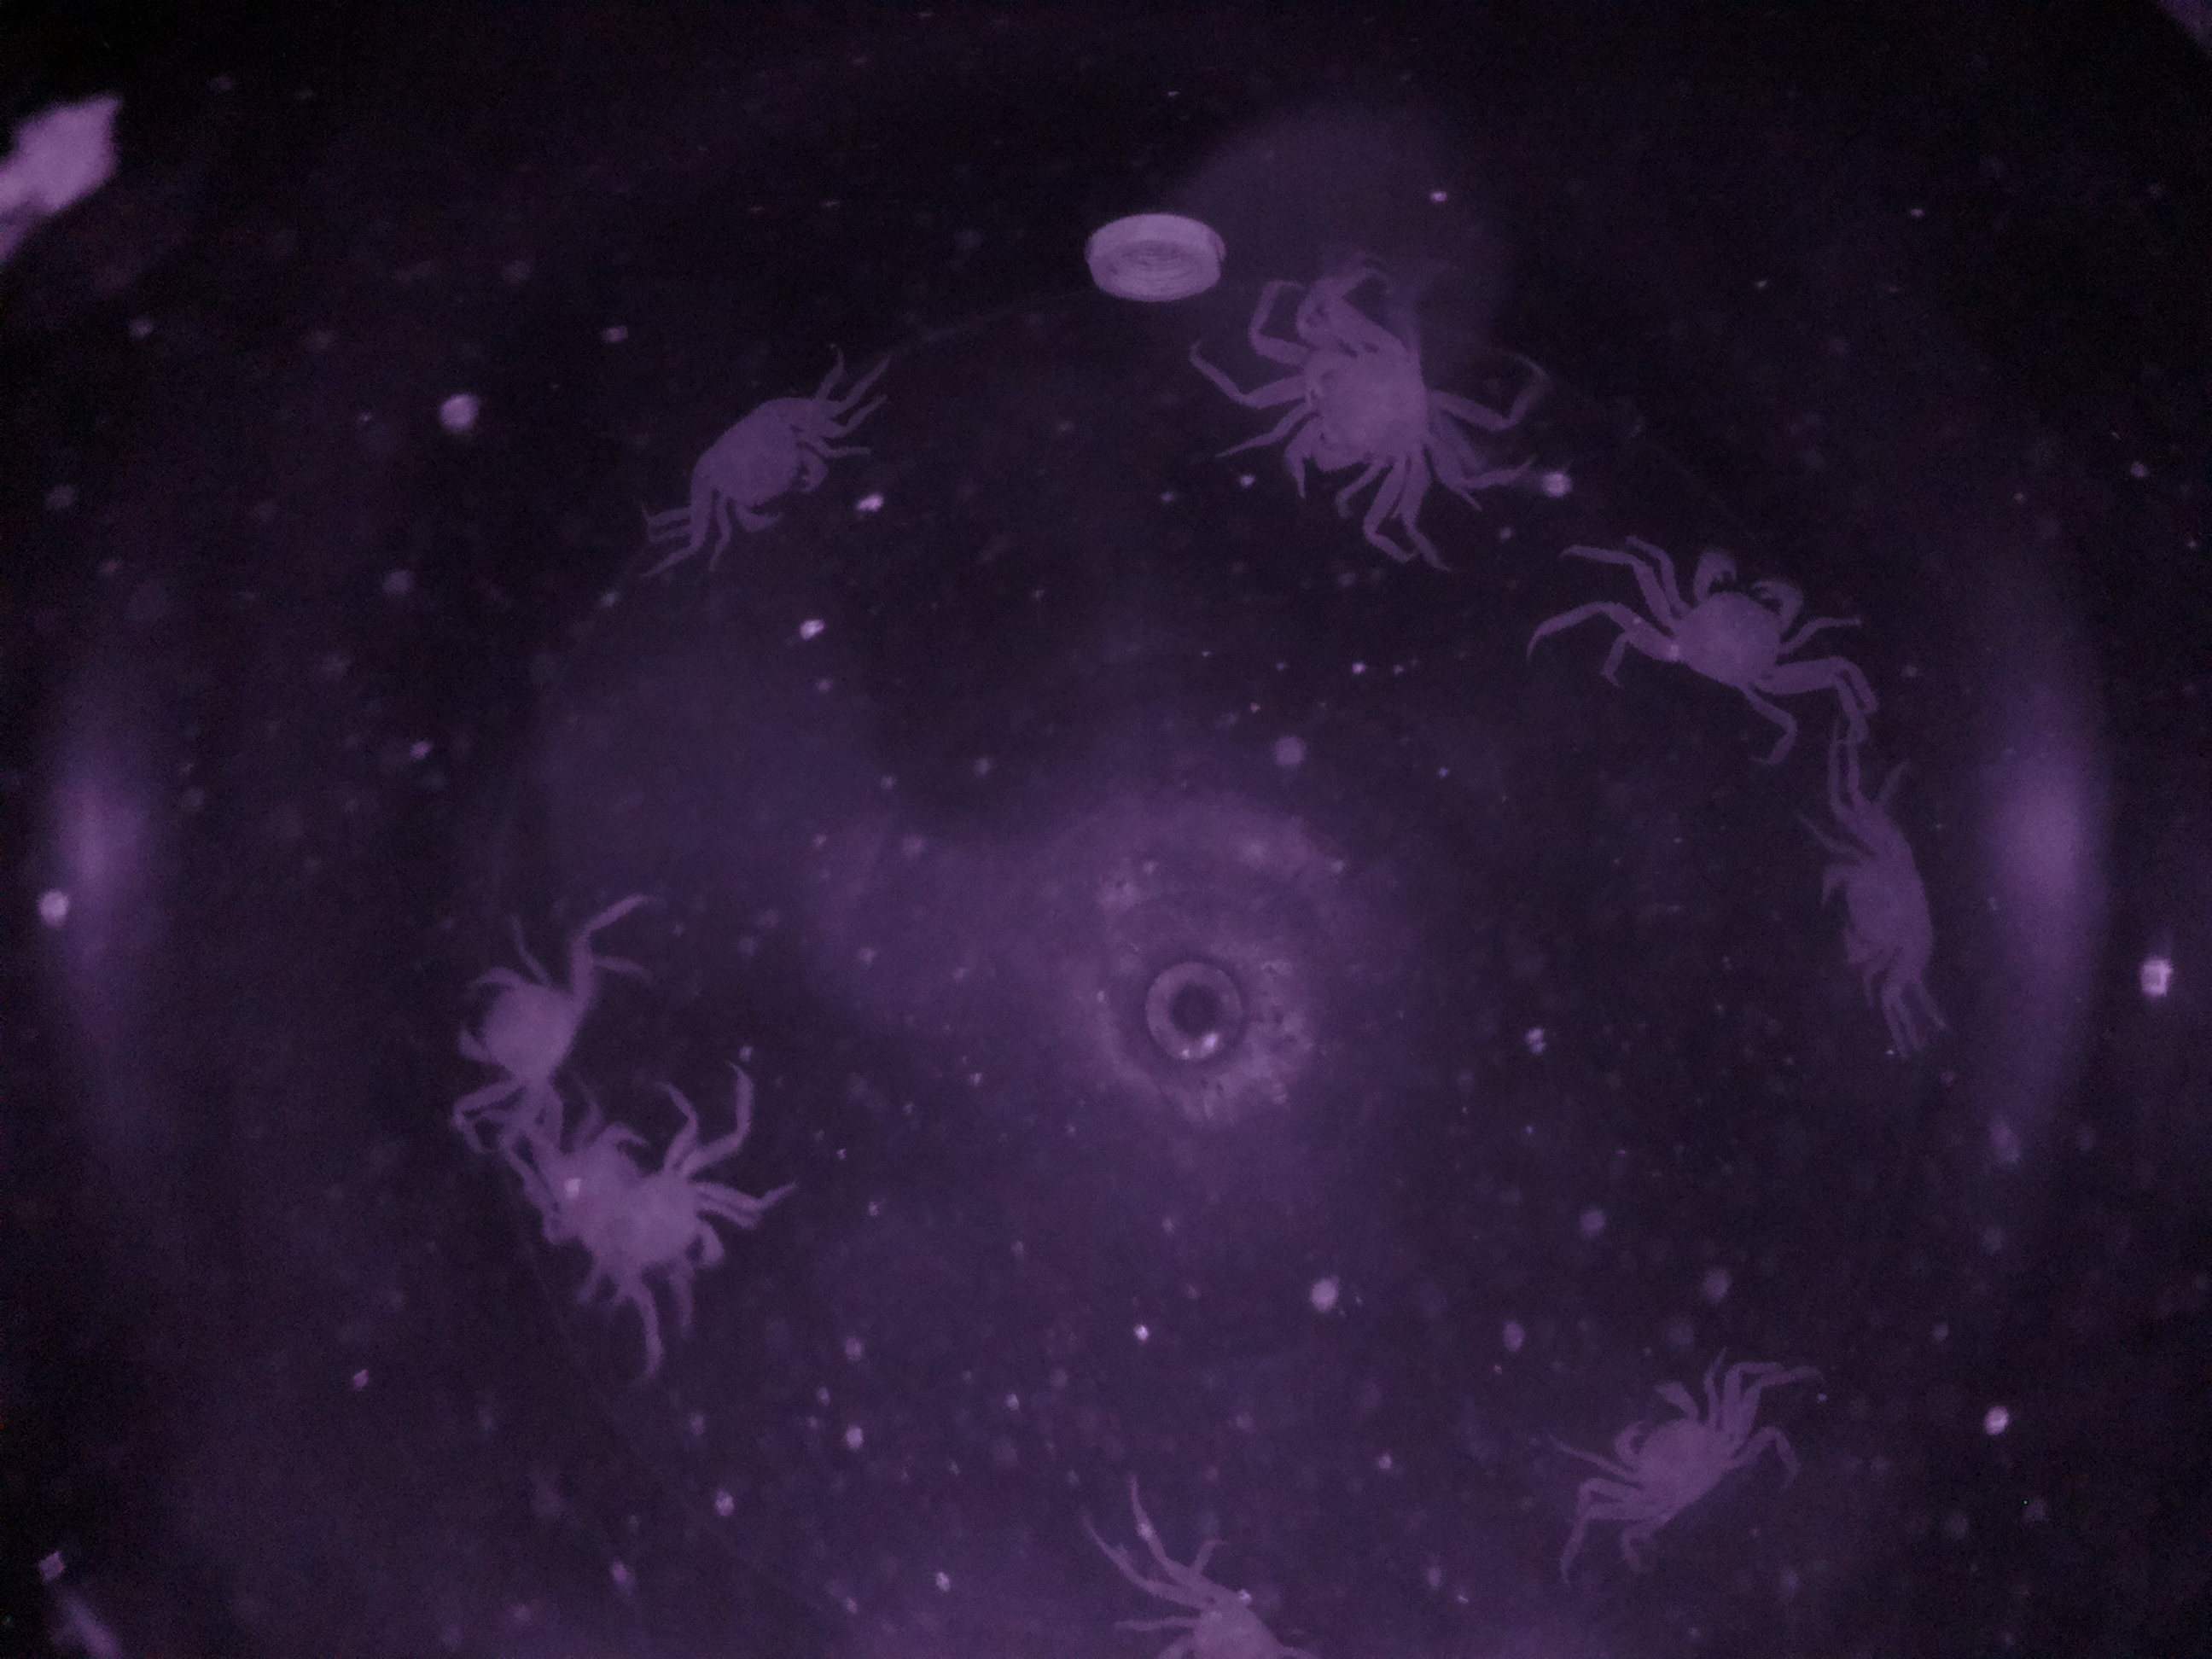Crab: (1611, 538, 1844, 718), (1787, 809, 1979, 999), (1594, 1345, 1763, 1551), (664, 373, 845, 549)
